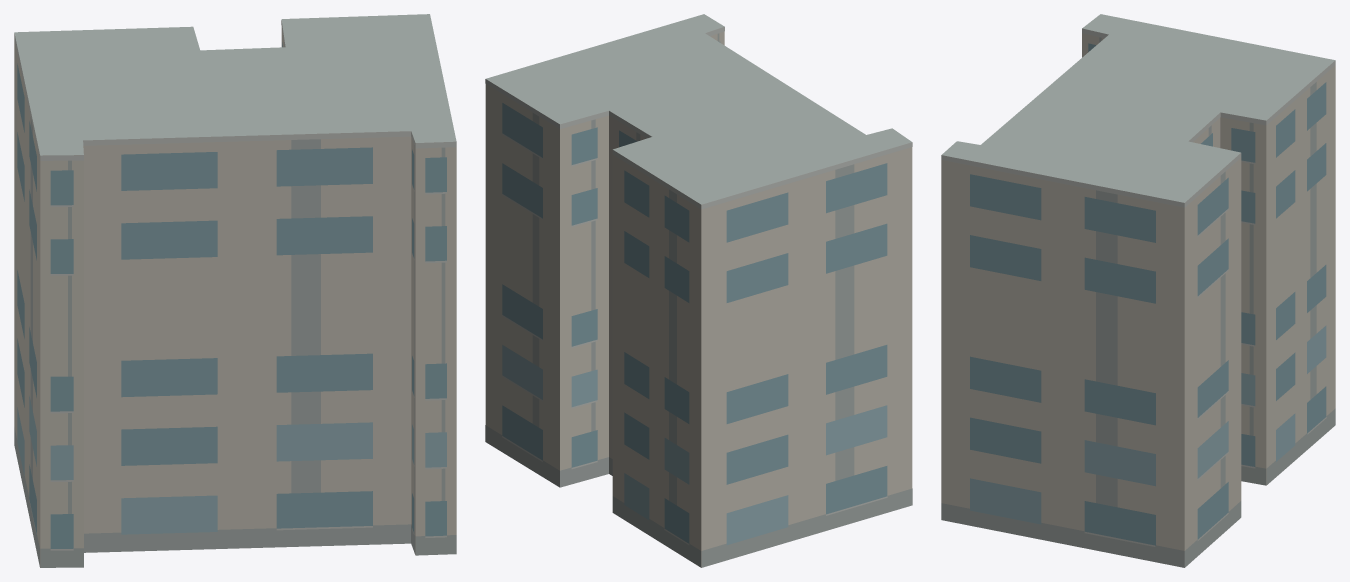
File: survey-upis-32479555.glb
The picture shows the model from 3 angles, left to right: view 1: azimuth 30°, elevation 25°; view 2: azimuth 150°, elevation 25°; view 3: azimuth 270°, elevation 25°; orthographic projection. The views are drawn at different scales.
Visible parts, largest first — view 1: survey-upis-32479555.tmp; view 2: survey-upis-32479555.tmp; view 3: survey-upis-32479555.tmp.
Part boxes in pixels (x1,y1,x2,y2): survey-upis-32479555.tmp: (14,14,456,567); survey-upis-32479555.tmp: (485,14,912,567); survey-upis-32479555.tmp: (941,14,1335,567).
Size of the model in its own units: 20.43 by 18.4 by 18.02.
